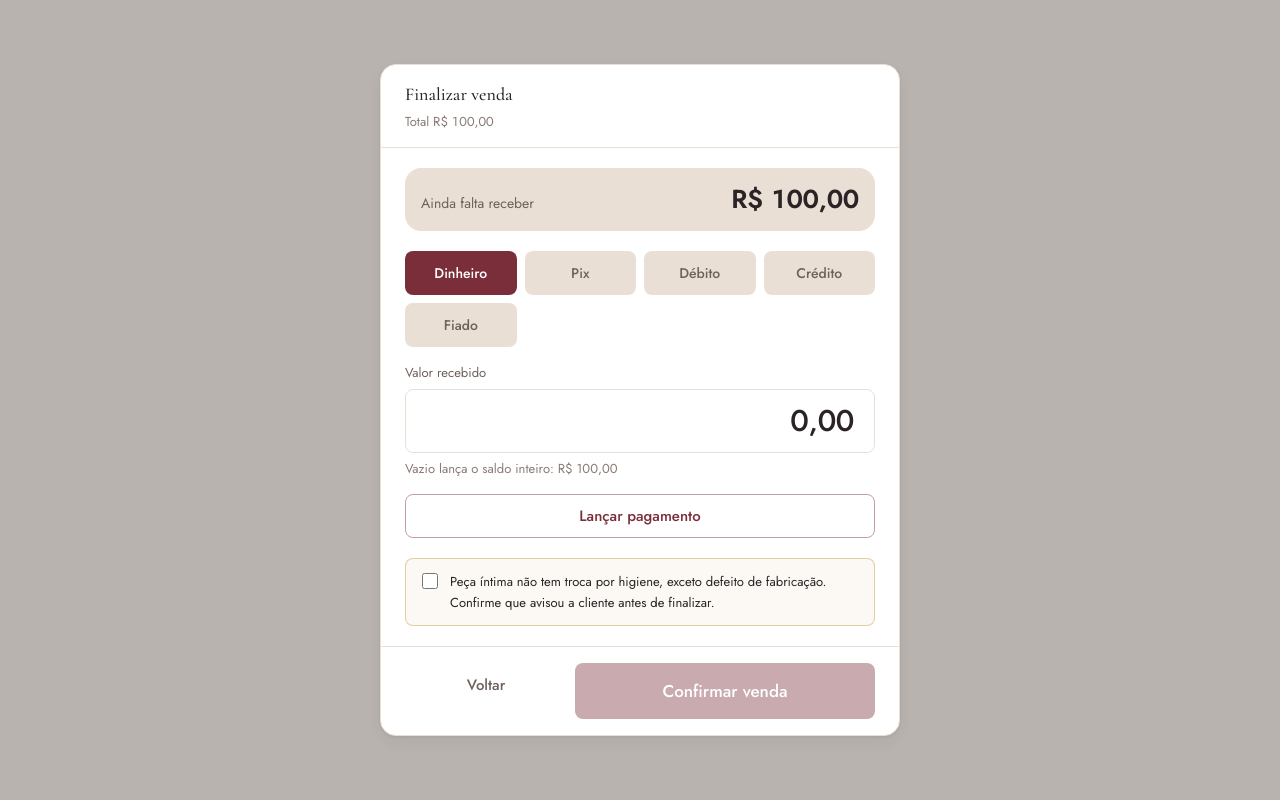
ModalFinalizacao › calcula o troco ao vivo enquanto a operadora digita
This screenshot has width=1280, height=800.
Replace the text in the field labelled "Valor recebido" with "15000" at (640, 421), box [405,389,875,453]
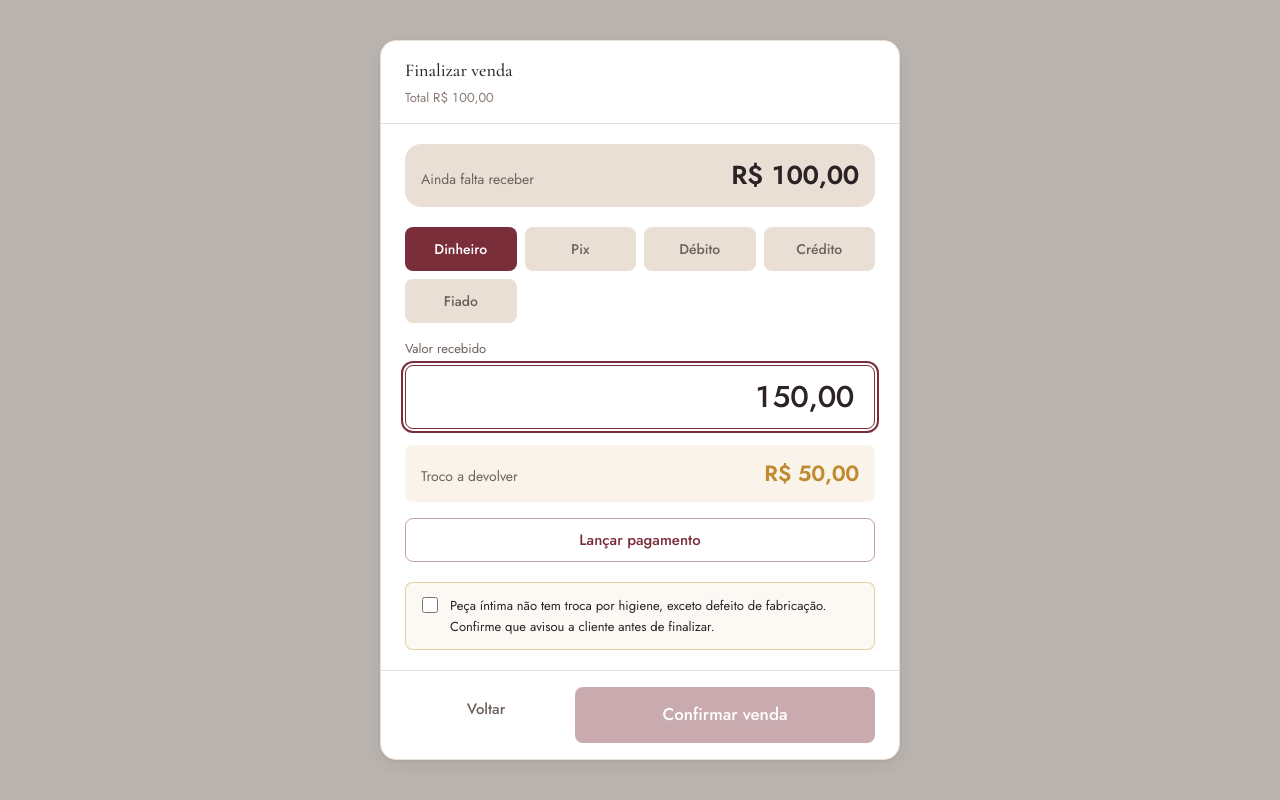
Expected: the text "Troco a devolver" is shown, [421,466,518,487]
Expected: the text "R$ 50,00" is shown, [764,457,859,490]
